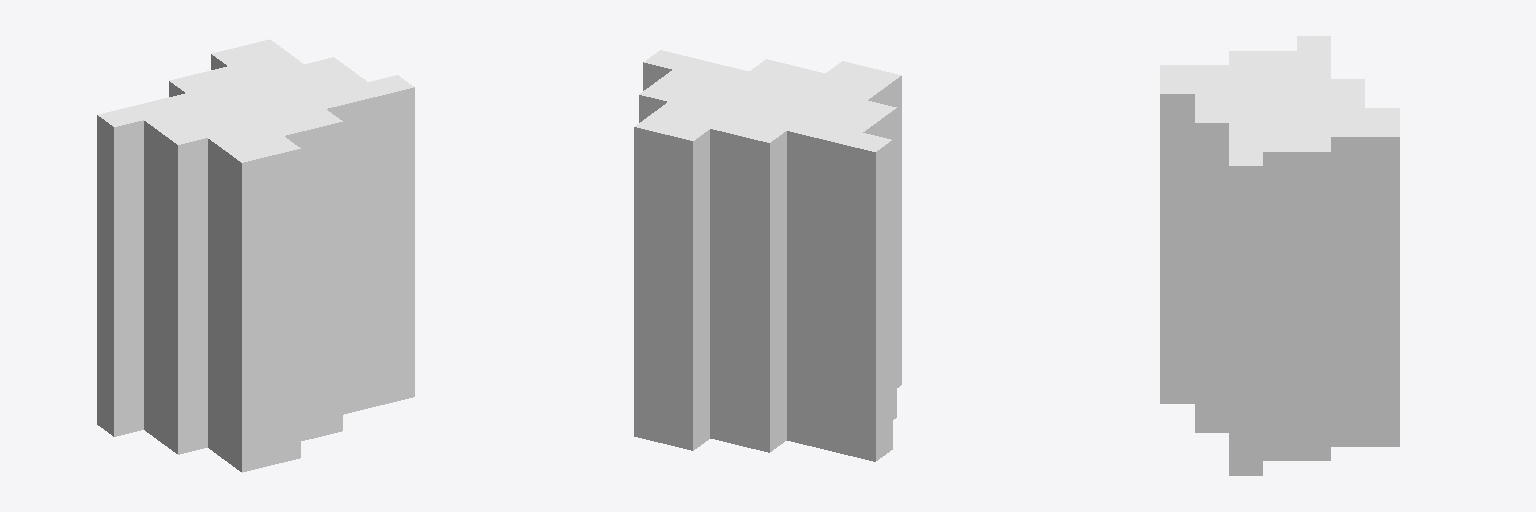
File: Leg123.obj
3 renders of one model, left to right at view 1: azimuth 30°, elevation 25°; view 2: azimuth 150°, elevation 25°; view 3: azimuth 270°, elevation 25°, orthographic.
Visible parts, largest first — view 1: object 1; view 2: object 1; view 3: object 1.
Part boxes in pixels (left/top/right/bottom): object 1: left=97, top=39, right=414, bottom=472; object 1: left=634, top=50, right=901, bottom=461; object 1: left=1160, top=36, right=1399, bottom=475.
Size of the model in its own units: 0.9 by 1 by 0.7.